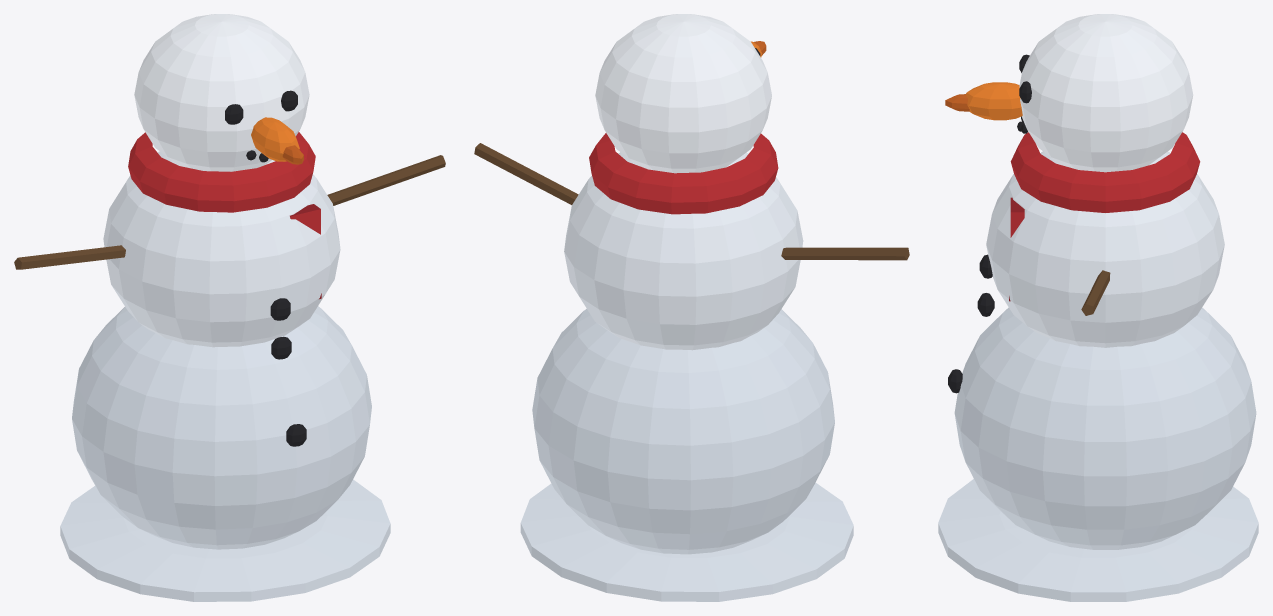
Rendered from Building_Snowman__B.glb.
3 views of the same model, side by side, from view 1: azimuth 30°, elevation 25°; view 2: azimuth 150°, elevation 25°; view 3: azimuth 270°, elevation 25° (orthographic).
Visible parts, largest first — view 1: Snowman__B; view 2: Snowman__B; view 3: Snowman__B.
Boxes of the visible parts, x1=… form: Snowman__B: x1=14, y1=14, x2=445, y2=601; Snowman__B: x1=474, y1=14, x2=909, y2=601; Snowman__B: x1=938, y1=14, x2=1258, y2=601.
Bounding box in the file's own units: 1.41 × 1.64 × 0.913.
Materials: 1 (1 with a texture image).
